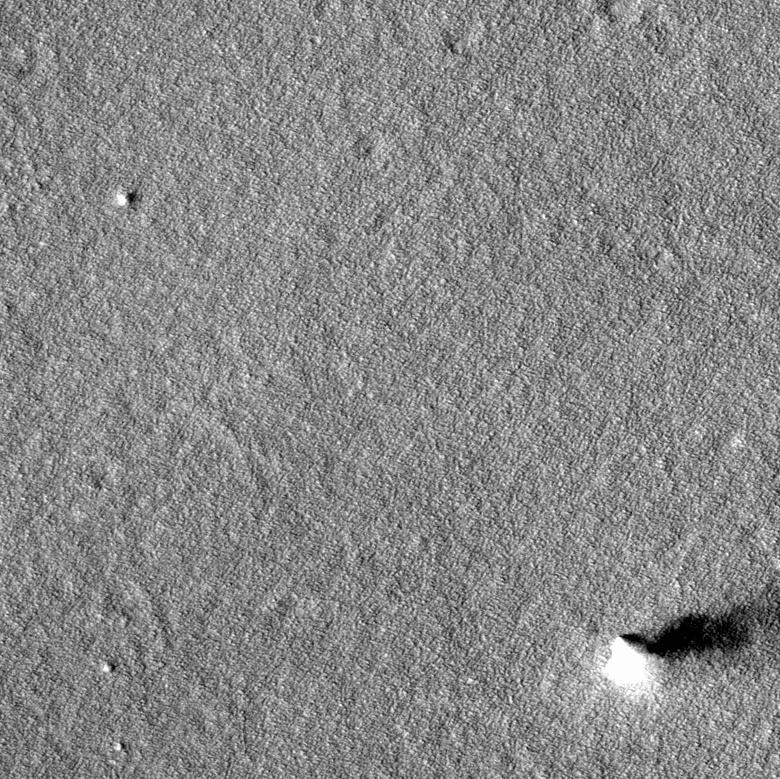dust_devil: (596, 597, 766, 697)
